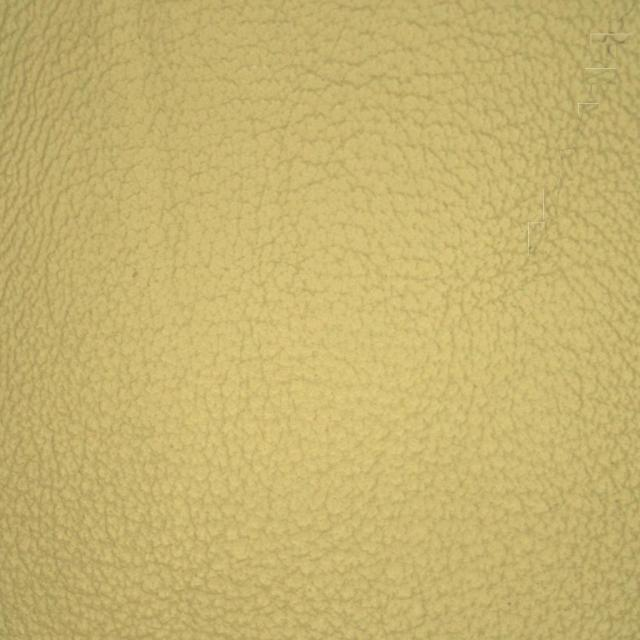Scratch: (504, 10, 630, 151)
